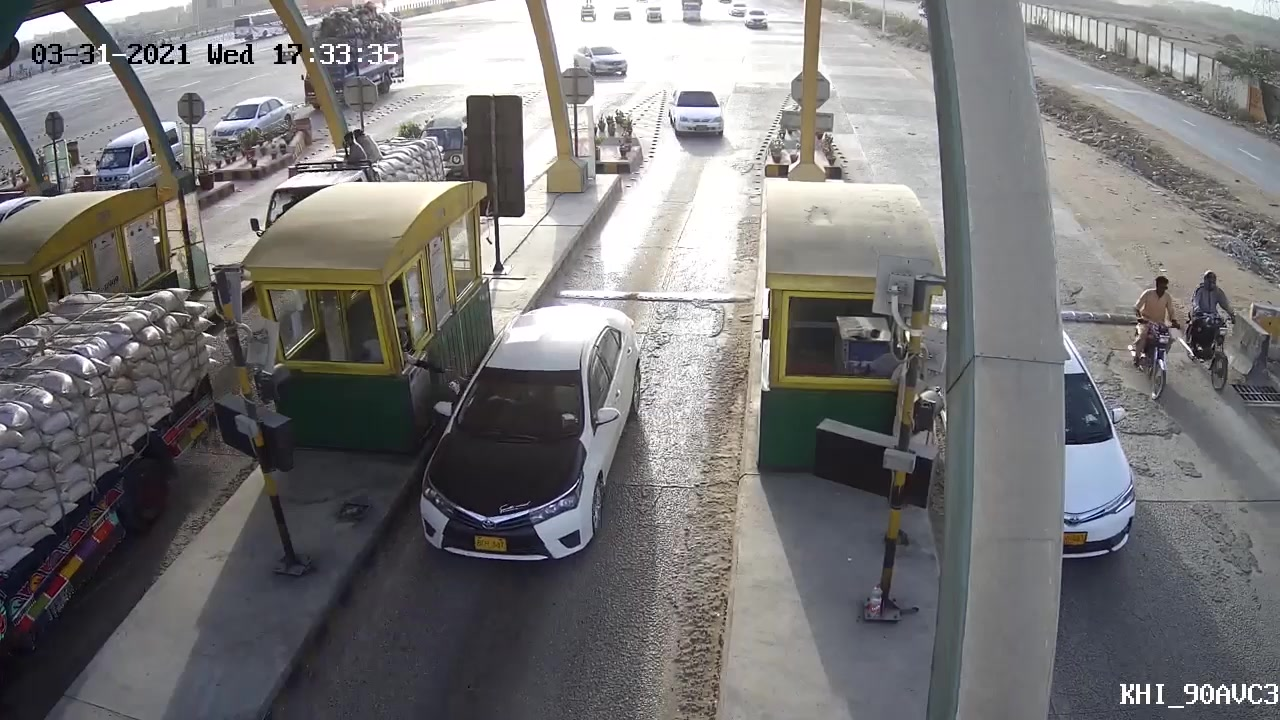F1: (413, 303, 634, 574)
